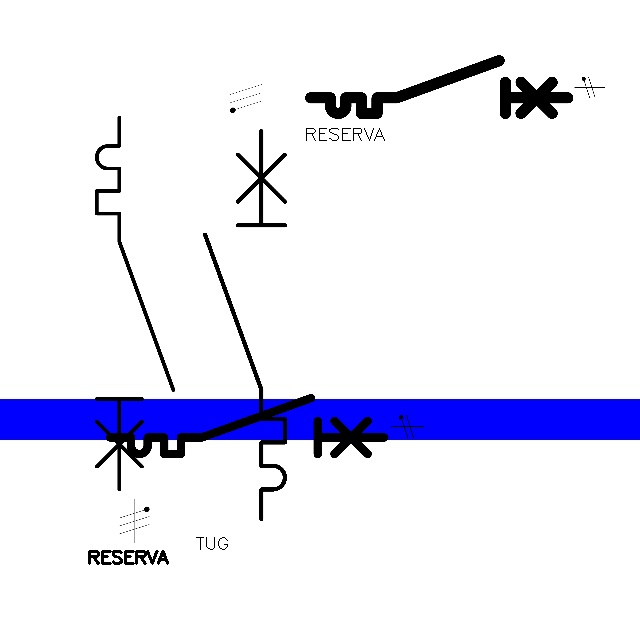interruptor_termomagnetico: (195, 121, 295, 529), (87, 108, 182, 499), (103, 391, 391, 461), (304, 54, 575, 120)
